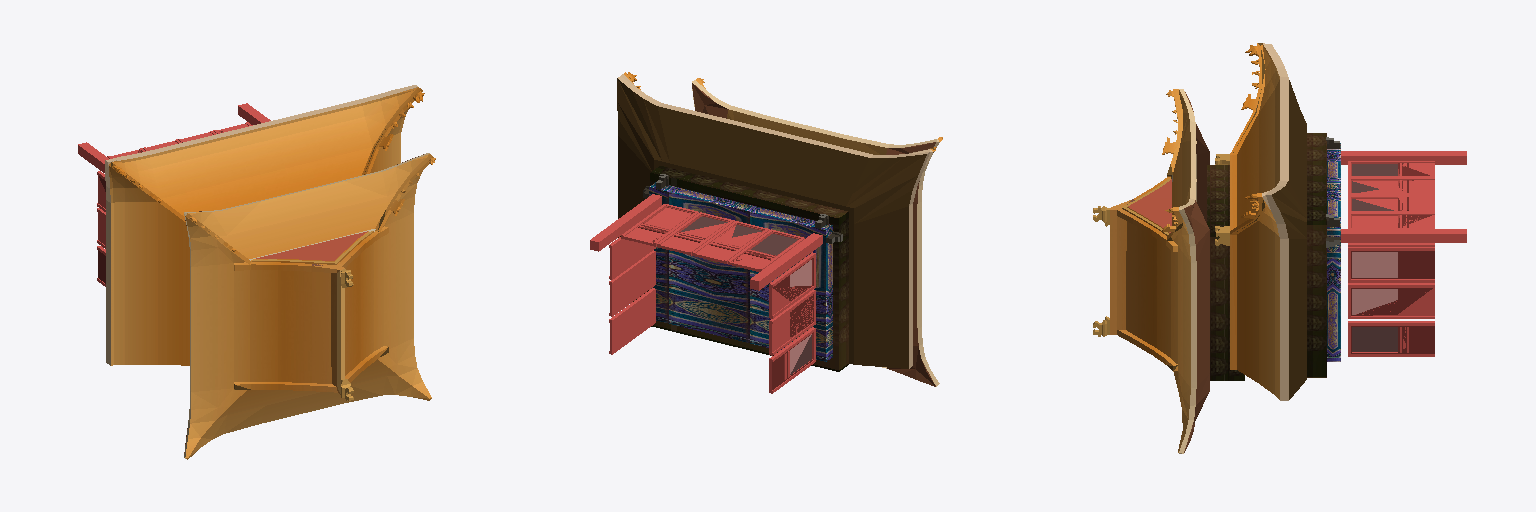
3 views of the same model, side by side, from view 1: azimuth 30°, elevation 25°; view 2: azimuth 150°, elevation 25°; view 3: azimuth 270°, elevation 25° (orthographic).
Size of the model in its own units: 196 by 165 by 203.
19 materials, 3 textured.